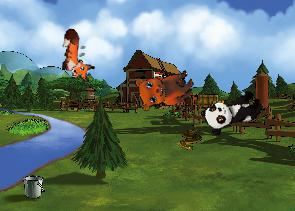bear: (129, 56, 199, 118)
fox: (58, 28, 98, 83)
panda: (199, 84, 266, 138)
